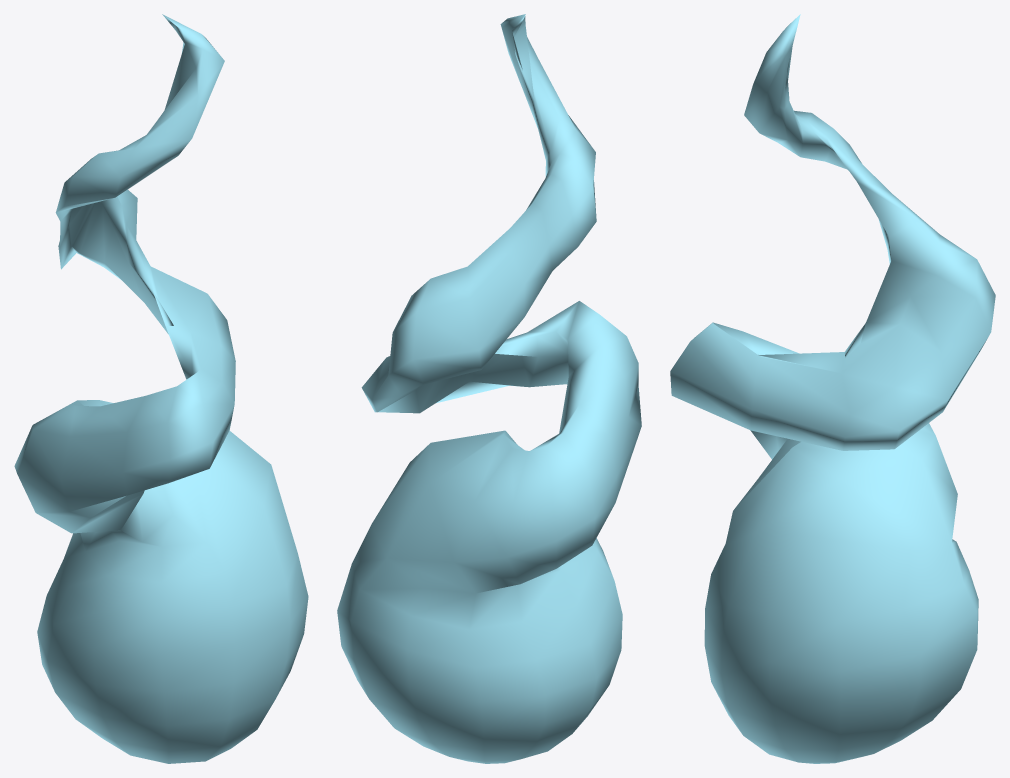
Rendered from SOUL.fbx.
The picture shows the model from 3 angles, left to right: view 1: azimuth 30°, elevation 25°; view 2: azimuth 150°, elevation 25°; view 3: azimuth 270°, elevation 25°; orthographic projection. The views are drawn at different scales.
Visible parts, largest first — view 1: pSphere2; view 2: pSphere2; view 3: pSphere2.
Boxes of the visible parts, x1,y1,x2,y2 form: pSphere2: (14,14,308,763); pSphere2: (337,14,641,763); pSphere2: (670,14,995,763).
Size of the model in its own units: 40.64 by 114 by 46.26.
